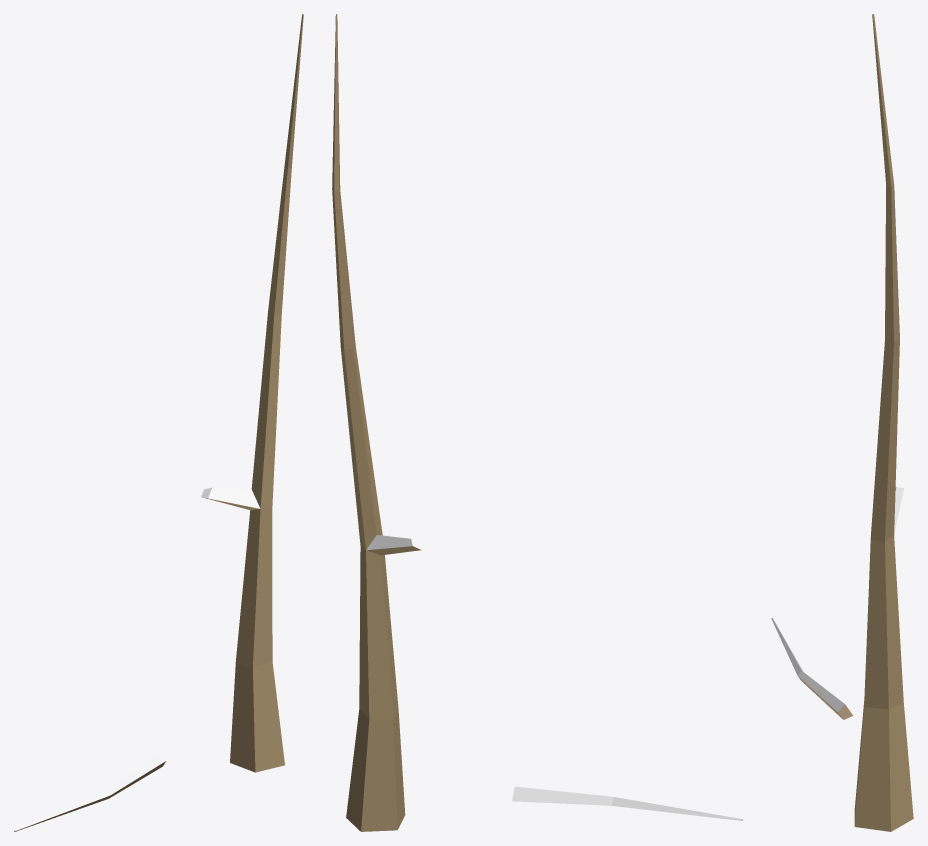
Rendered from Random_Tree_NoLeaves_crk_m_Snow_01_LOD.fbx.
The picture shows the model from 3 angles, left to right: view 1: azimuth 30°, elevation 25°; view 2: azimuth 150°, elevation 25°; view 3: azimuth 270°, elevation 25°; orthographic projection. The views are drawn at different scales.
Visible parts, largest first — view 1: Random_Tree_NoLeaves_crk_m_Snow_01_LOD0; view 2: Random_Tree_NoLeaves_crk_m_Snow_01_LOD0; view 3: Random_Tree_NoLeaves_crk_m_Snow_01_LOD0.
Boxes of the visible parts, left/top/right/bottom form: Random_Tree_NoLeaves_crk_m_Snow_01_LOD0: left=14, top=14, right=303, bottom=831; Random_Tree_NoLeaves_crk_m_Snow_01_LOD0: left=332, top=14, right=742, bottom=831; Random_Tree_NoLeaves_crk_m_Snow_01_LOD0: left=771, top=14, right=913, bottom=831.
Size of what is drawn, in the model's own units: 400 by 845 by 132.
